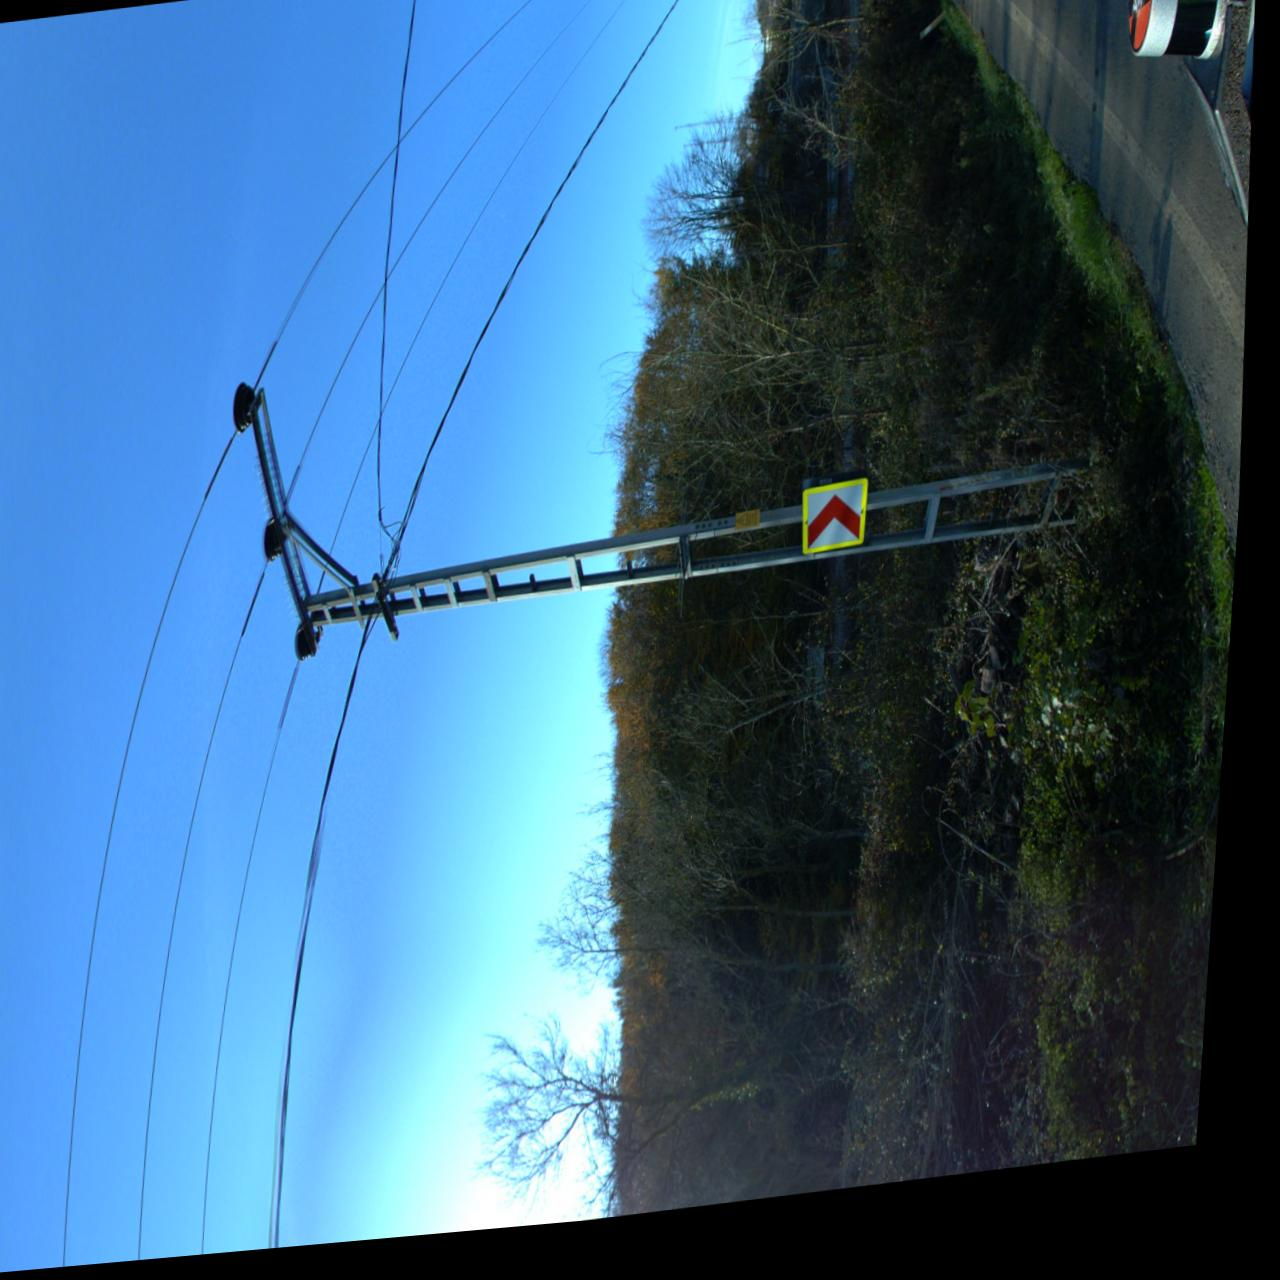Utility Pole Information Plate: (743, 522, 769, 543)
